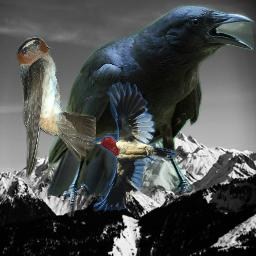Crow: (41, 5, 254, 217)
Swallow: (16, 37, 96, 180)
Woodpecker: (93, 82, 177, 212)
